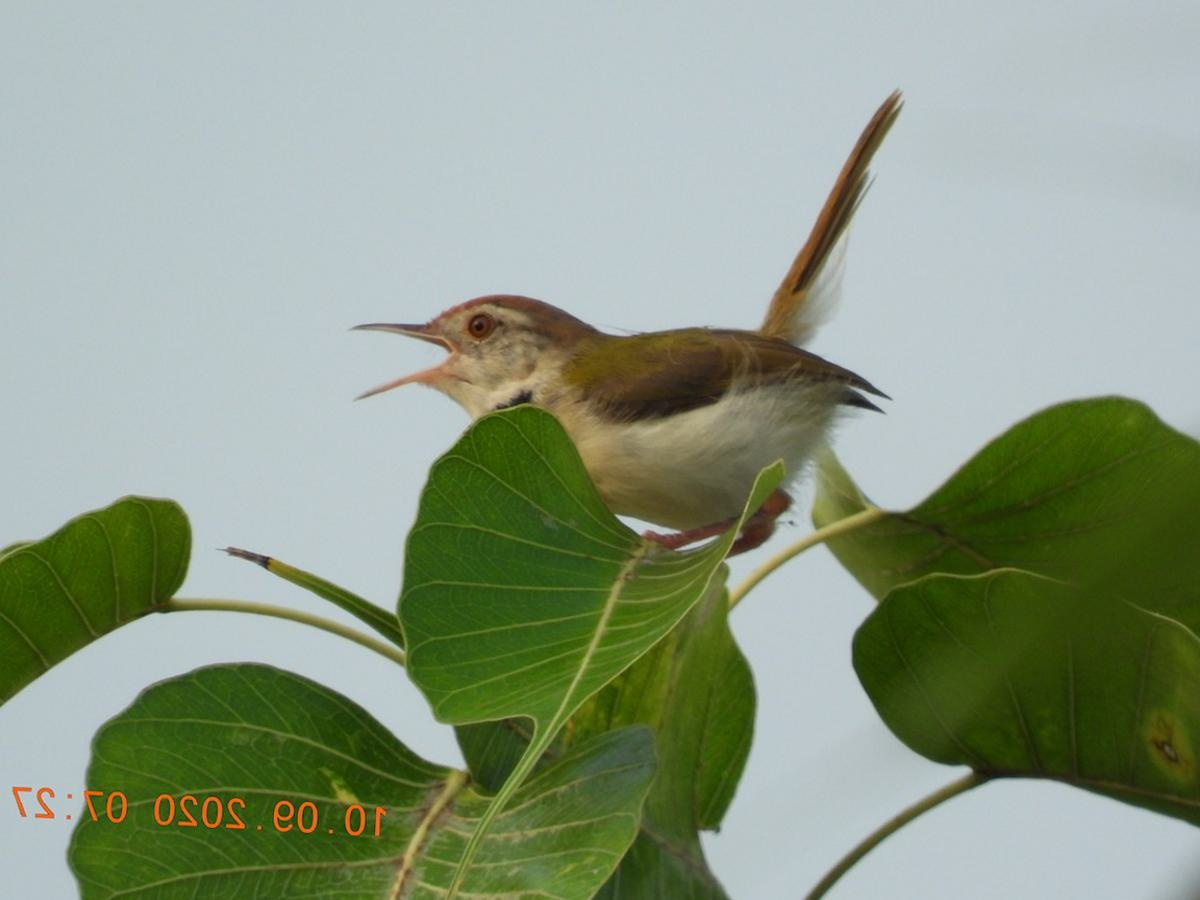tailorbird: (336, 141, 925, 522)
